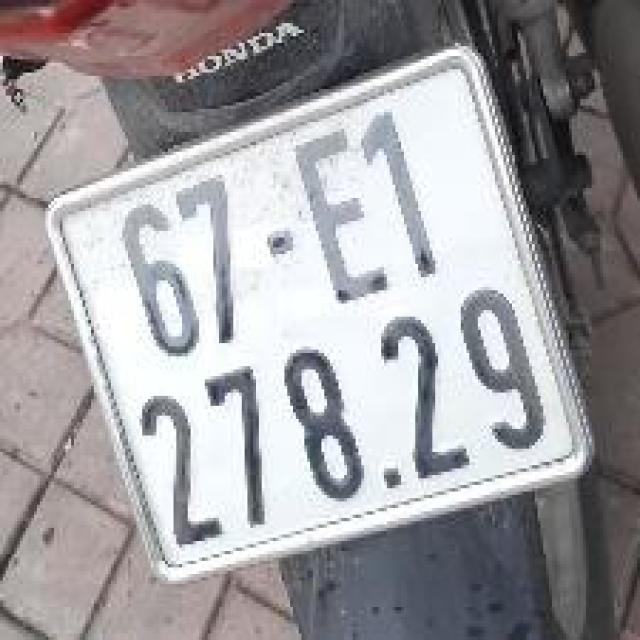1: (345, 94, 467, 303)
2: (368, 299, 476, 497), (128, 380, 241, 564)
6: (108, 189, 214, 381)
7: (159, 165, 266, 360), (194, 354, 289, 533)
8: (269, 327, 381, 519)
9: (438, 272, 565, 468)
E: (284, 116, 401, 319)
